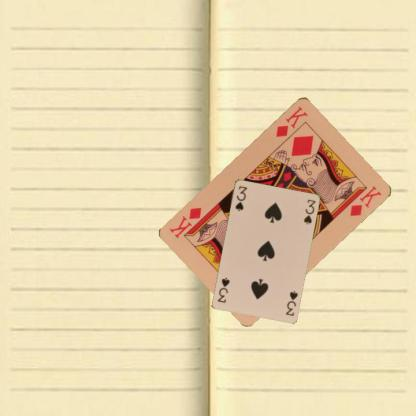3s: (232, 183, 248, 212), (283, 288, 299, 316)
Kd: (273, 103, 309, 138)
